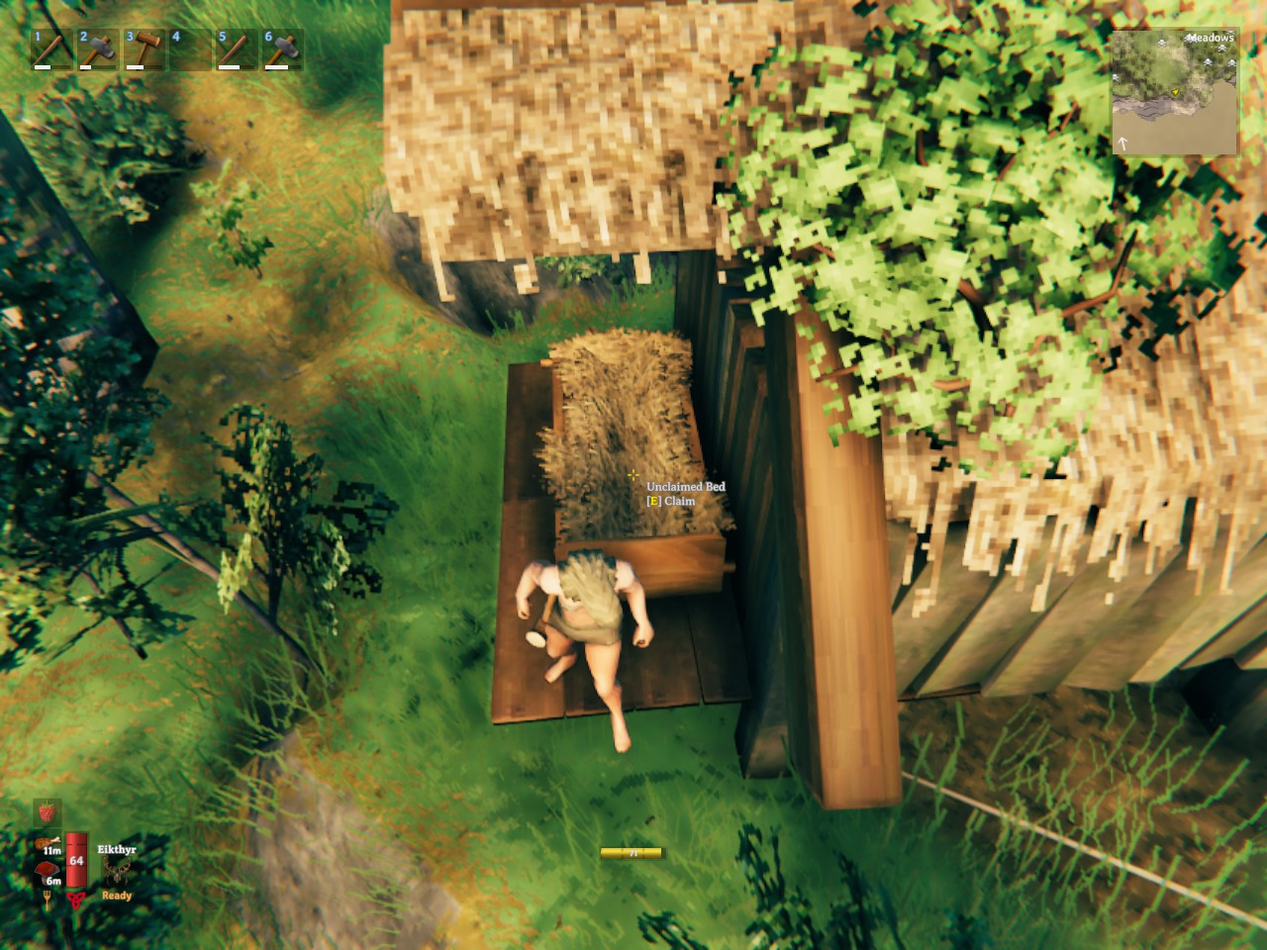Bed: (536, 331, 733, 593)
Food Indicator: (36, 797, 63, 891)
Health Bar: (63, 820, 90, 891)
Hotbar: (25, 21, 398, 78)
House: (385, 4, 1265, 810)
Stamina Bar: (596, 846, 667, 862)
